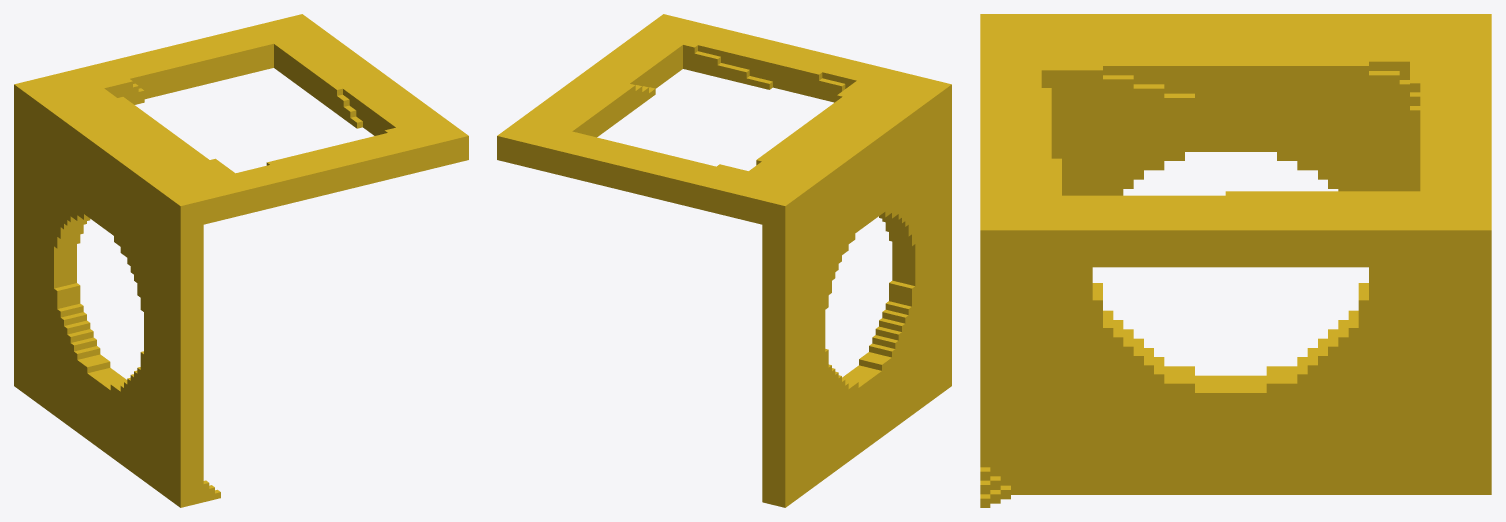
File: chunk2.gltf
3 renders of one model, left to right at view 1: azimuth 30°, elevation 25°; view 2: azimuth 150°, elevation 25°; view 3: azimuth 270°, elevation 25°, orthographic. The views are drawn at different scales.
Visible parts, largest first — view 1: 00-Local.003; view 2: 00-Local.003; view 3: 00-Local.003.
Boxes of the visible parts, x1=… form: 00-Local.003: x1=14, y1=14, x2=468, y2=507; 00-Local.003: x1=497, y1=14, x2=951, y2=507; 00-Local.003: x1=980, y1=14, x2=1491, y2=507.
Size of the model in its own units: 50 by 50 by 50.
1 material, 1 textured.
